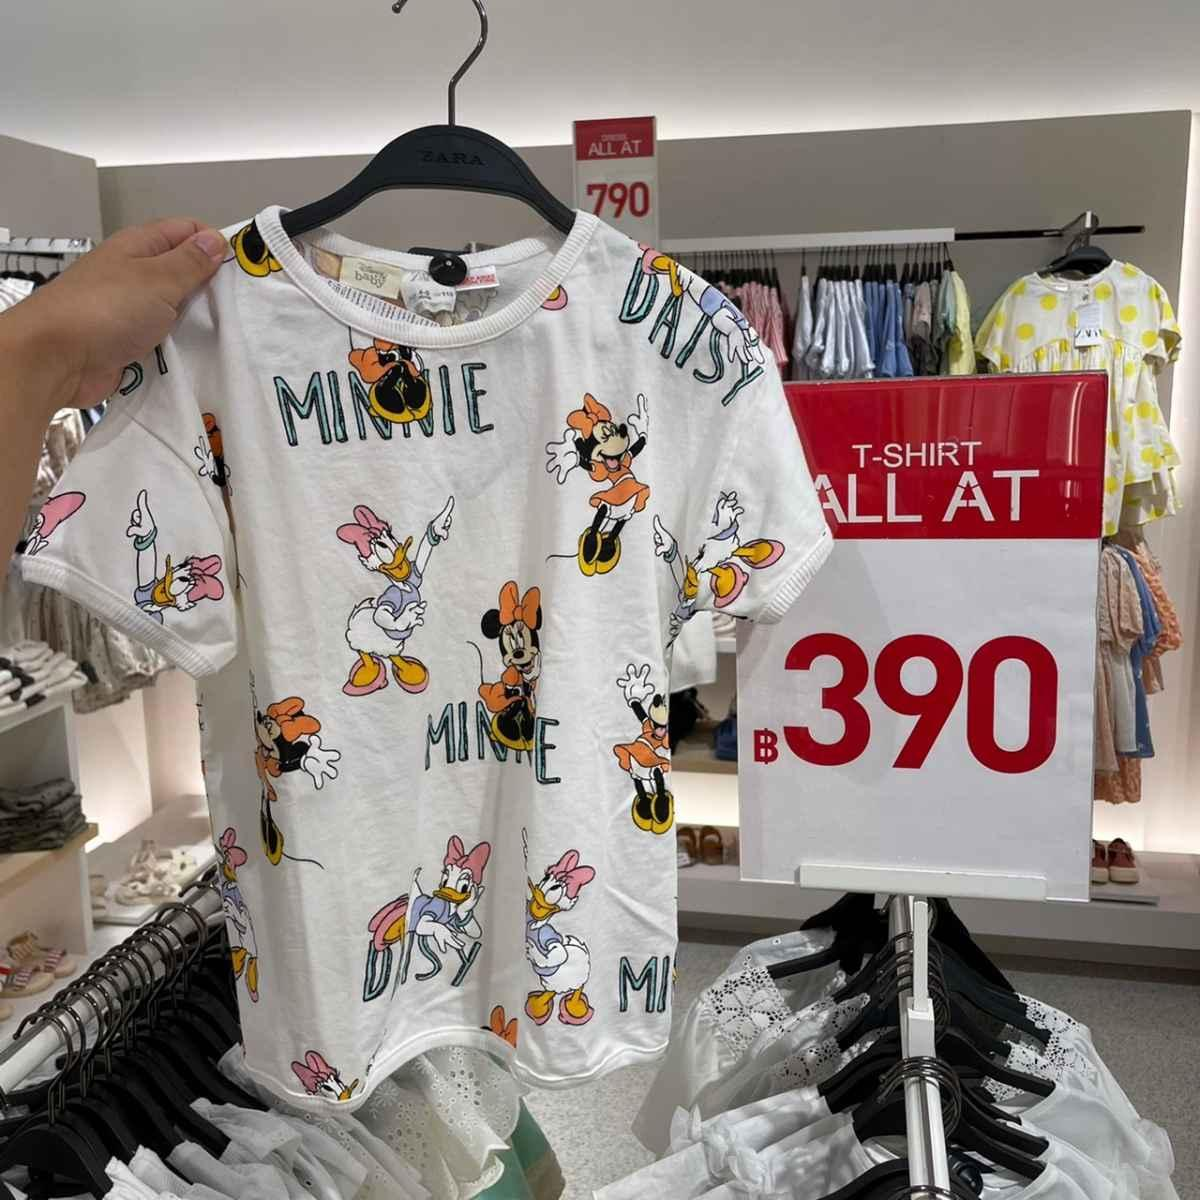Tshirt: (0, 196, 826, 1100)
